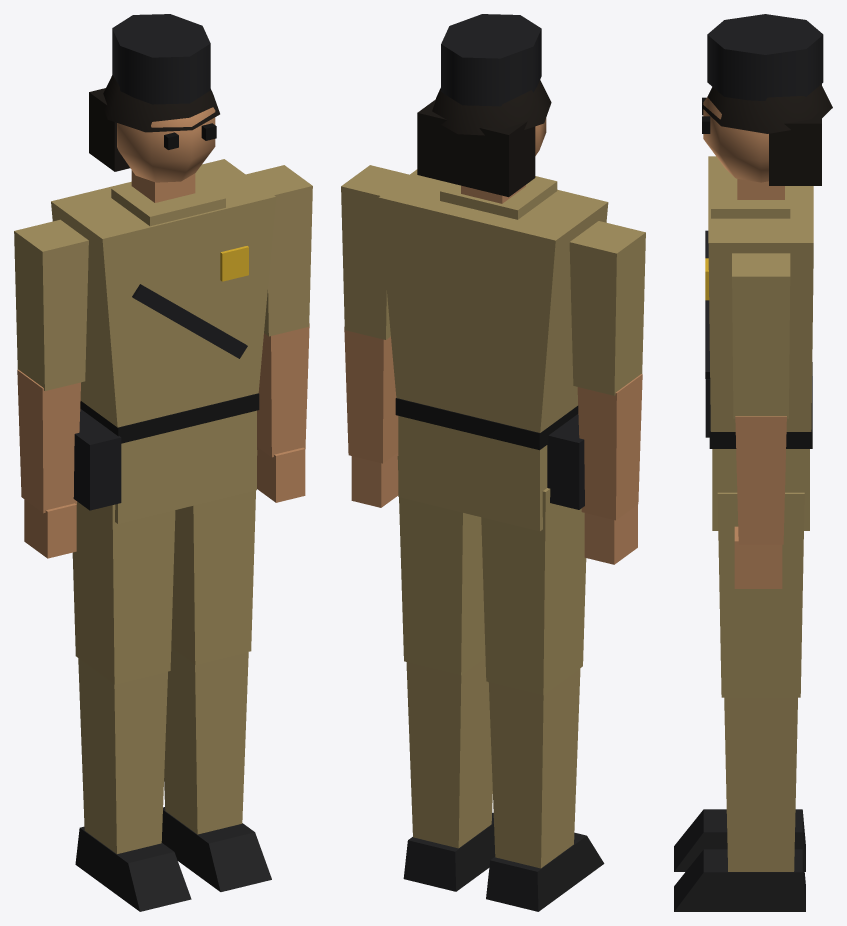
File: npc_pns.glb
3 views of the same model, side by side, from view 1: azimuth 30°, elevation 25°; view 2: azimuth 150°, elevation 25°; view 3: azimuth 270°, elevation 25° (orthographic). The views are drawn at different scales.
Visible parts, largest first — view 1: torso, leg_r, leg_l, arm_r, head, arm_l; view 2: torso, leg_r, leg_l, arm_r, head, arm_l; view 3: leg_l, torso, head, arm_l, leg_r.
Part boxes in pixels (x1,y1,x2,y2): torso: (51,159,275,523); leg_r: (72,502,191,911); leg_l: (161,450,271,891); arm_r: (14,219,88,558); head: (89,14,219,182); arm_l: (246,165,312,502); torso: (378,169,608,531); leg_r: (481,488,604,911); leg_l: (397,456,495,891); arm_r: (569,221,645,564); head: (417,14,551,197); arm_l: (341,165,408,507); leg_l: (674,492,805,911); torso: (705,156,813,530); head: (702,14,832,185); arm_l: (732,253,790,588); leg_r: (674,809,805,871).
Bounding box in the file's own units: 0.6035 × 1.76 × 0.301.
1 material, 1 textured.
